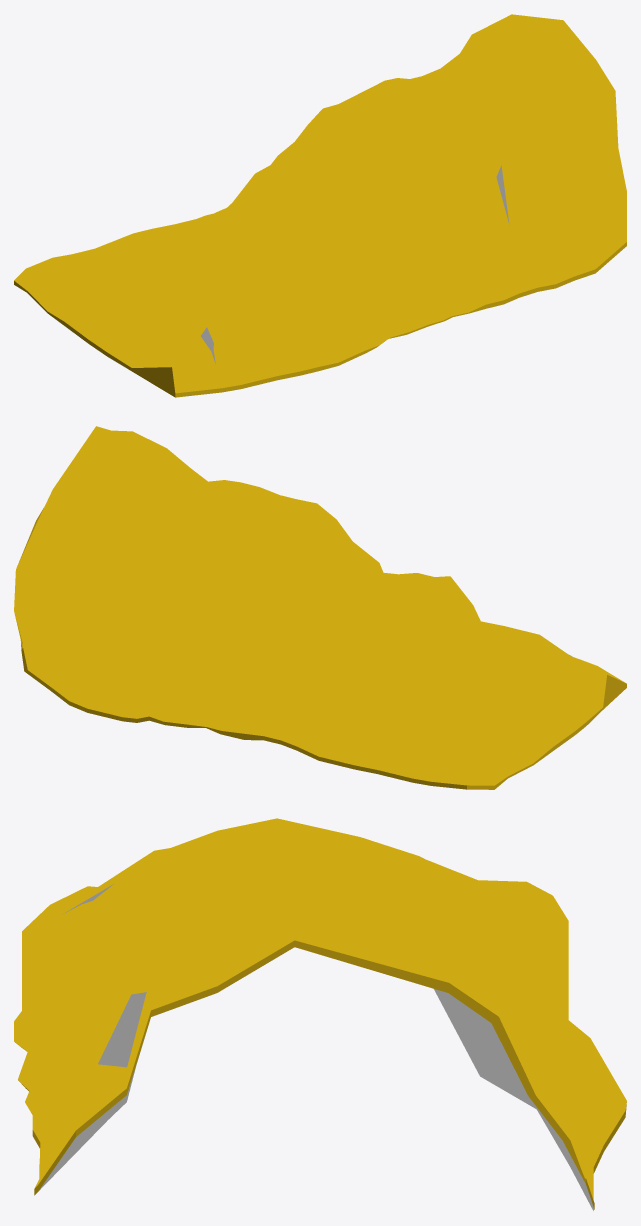
The model's file is OdealoAnimation2.fbx.
3 renders of one model, top to bottom at view 1: azimuth 30°, elevation 25°; view 2: azimuth 150°, elevation 25°; view 3: azimuth 270°, elevation 25°, orthographic. The views are drawn at different scales.
Visible parts, largest first — view 1: Cube; view 2: Cube; view 3: Cube.
Boxes of the visible parts, <box> form: Cube: <box>14,14,626,397</box>; Cube: <box>14,426,626,789</box>; Cube: <box>14,818,626,1210</box>.
Size of the model in its own units: 292 by 119 by 196.
